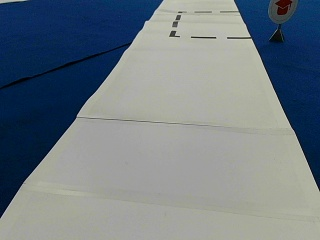school: (267, 0, 298, 23)
